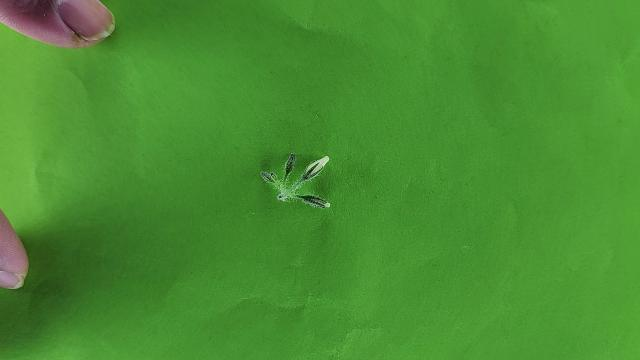Flower Bud: (301, 156, 328, 182), (298, 194, 330, 208), (284, 152, 296, 175), (260, 171, 276, 184)
